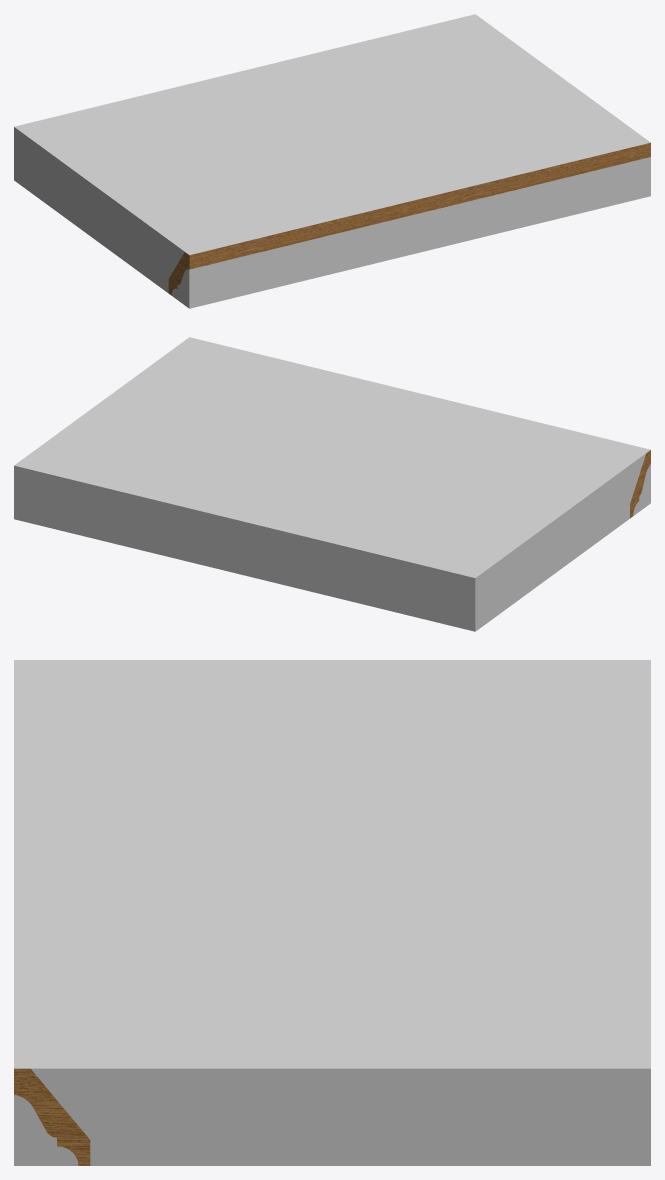
The model's file is VCKR0010.glb.
3 renders of one model, top to bottom at view 1: azimuth 30°, elevation 25°; view 2: azimuth 150°, elevation 25°; view 3: azimuth 270°, elevation 25°, orthographic. The views are drawn at different scales.
Visible parts, largest first — view 1: _bb01, _(Loose Entity); view 2: _bb01, _(Loose Entity); view 3: _bb01, _(Loose Entity).
Part boxes in pixels (bbox=[...]): _bb01: bbox=[14, 14, 650, 308]; _(Loose Entity): bbox=[168, 142, 650, 295]; _bb01: bbox=[14, 337, 650, 631]; _(Loose Entity): bbox=[630, 450, 650, 518]; _bb01: bbox=[14, 660, 650, 1165]; _(Loose Entity): bbox=[14, 1068, 90, 1165].
Size of the model in its own units: 0.406 by 0.0451 by 0.2675.
Materials: 1 (1 with a texture image).
